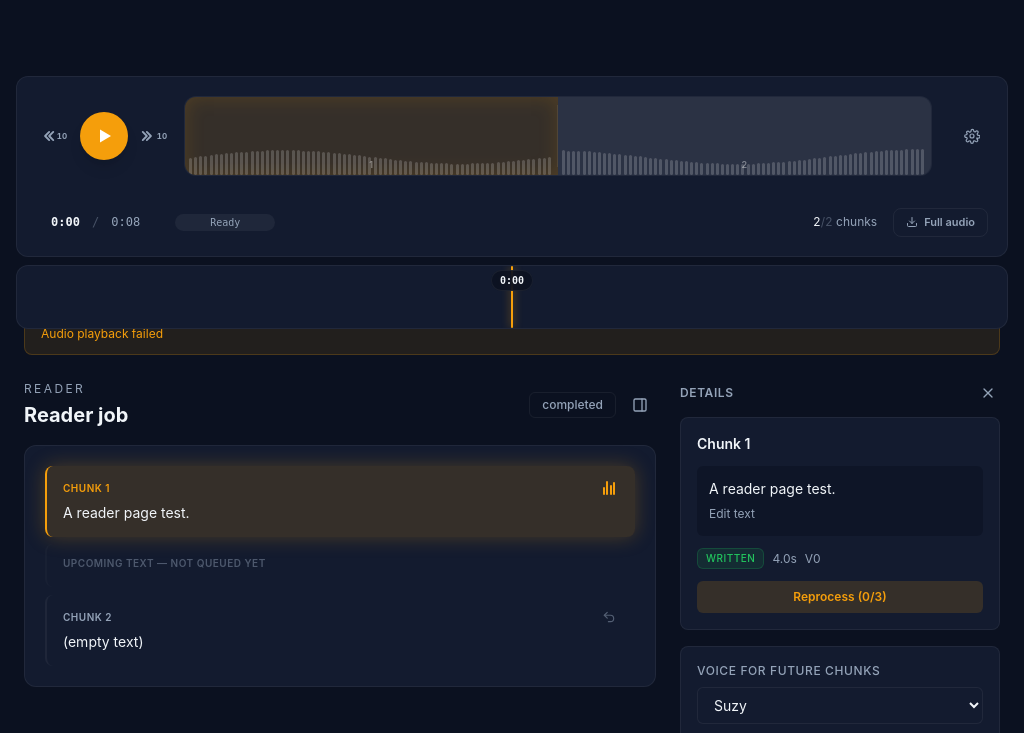
it: playback speed control › starts at 1x with no speed badge in the playbar
Expected: the heading "Reader job" is shown, [24,401,128,429]
Click the button named "Reader settings".
click(972, 136)  # box [956,120,988,152]
(page scrolled)
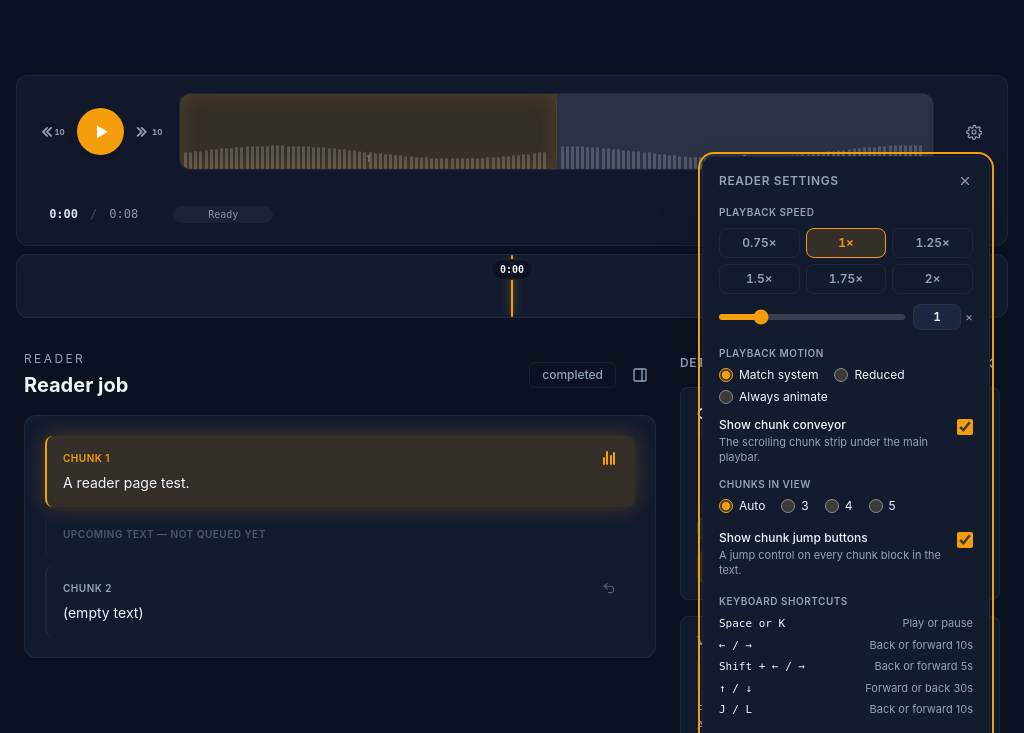
Expected: the slider named "playback speed slider" holds "1", [719,314,905,320]
Expected: the field named "playback speed value" holds "1", [913,304,961,330]
